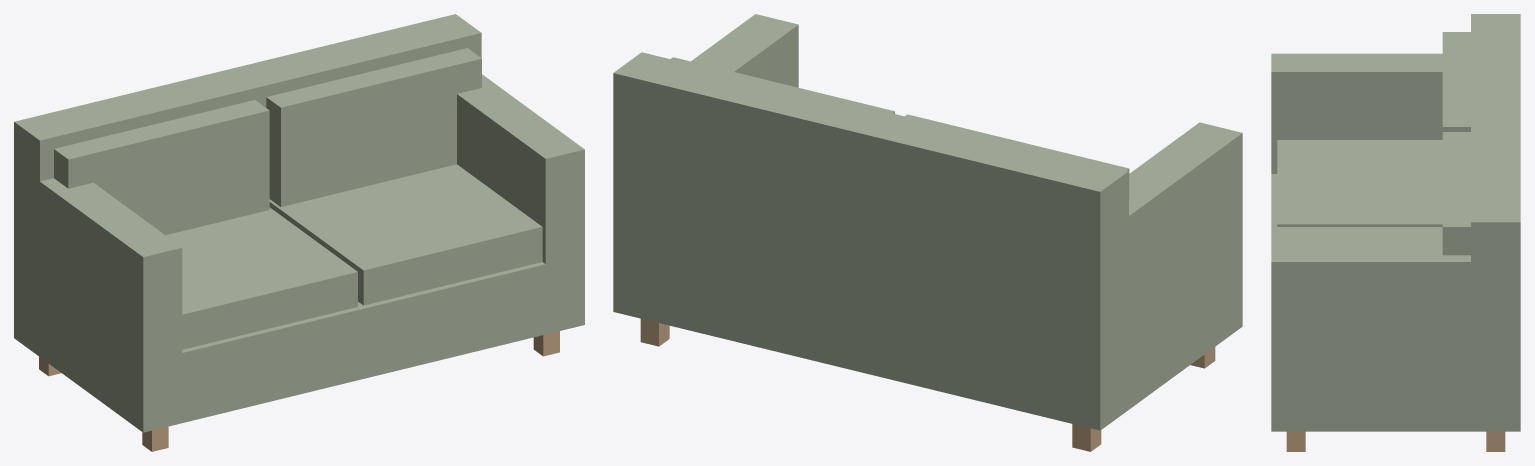
File: SageLinenSofa.glb
The picture shows the model from 3 angles, left to right: view 1: azimuth 30°, elevation 25°; view 2: azimuth 150°, elevation 25°; view 3: azimuth 270°, elevation 25°; orthographic projection. The views are drawn at different scales.
Parts seen in each view (by area): view 1: frame, back1, seat1, backrest, back0, arm0, seat0, arm1; view 2: backrest, frame, arm0, arm1, back0, back1, leg1, leg0; view 3: arm1, frame, backrest, arm0, seat0, back1, back0, seat1, leg1, leg3.
Boxes of the visible parts, <box> form: frame: <box>14,255,584,432</box>; back1: <box>266,48,481,206</box>; seat1: <box>269,164,542,305</box>; backrest: <box>14,14,481,286</box>; back0: <box>54,100,269,235</box>; arm0: <box>40,178,182,362</box>; seat0: <box>166,207,357,349</box>; arm1: <box>457,74,584,263</box>; backrest: <box>613,52,1128,353</box>; frame: <box>613,234,1242,430</box>; arm0: <box>1057,122,1242,352</box>; arm1: <box>613,14,798,244</box>; back0: <box>905,114,1129,200</box>; back1: <box>670,57,894,113</box>; leg1: <box>640,318,669,346</box>; leg0: <box>1072,424,1101,451</box>; arm1: <box>1271,243,1520,363</box>; frame: <box>1271,174,1520,431</box>; backrest: <box>1471,14,1520,363</box>; arm0: <box>1271,53,1442,173</box>; seat0: <box>1277,140,1442,226</box>; back1: <box>1442,132,1470,255</box>; back0: <box>1442,32,1470,131</box>; seat1: <box>1277,227,1442,243</box>; leg1: <box>1486,431,1505,451</box>; leg3: <box>1286,431,1305,451</box>.
Size of the model in its own units: 1.58 by 0.84 by 0.8.
